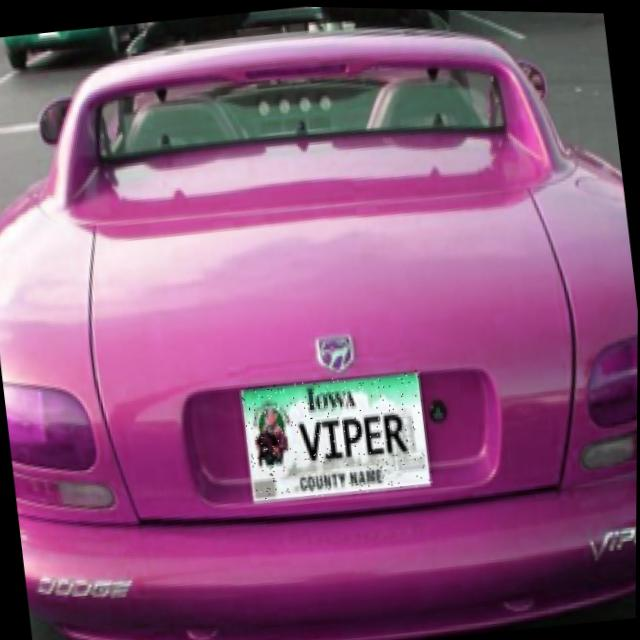license_plate: (240, 364, 434, 505)
